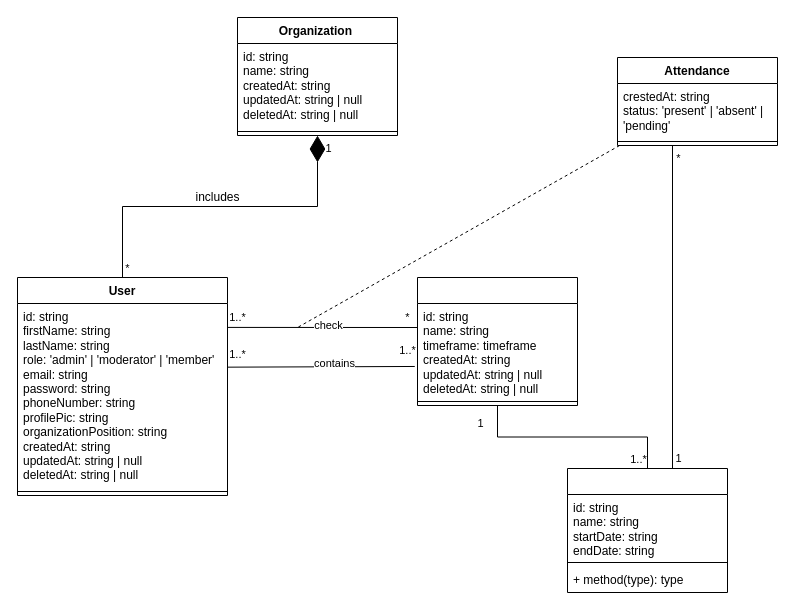
This 795x613 diagram has some shape labels left out. The shapes that lost their labels are listed below. From the top down, each one's box as (x1, y1, x2, y2) in pixels, then its label:
(416, 276, 578, 406): AttendanceList
(566, 468, 728, 592): Timeframe
